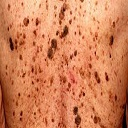Actinic: (7, 8, 123, 123)
